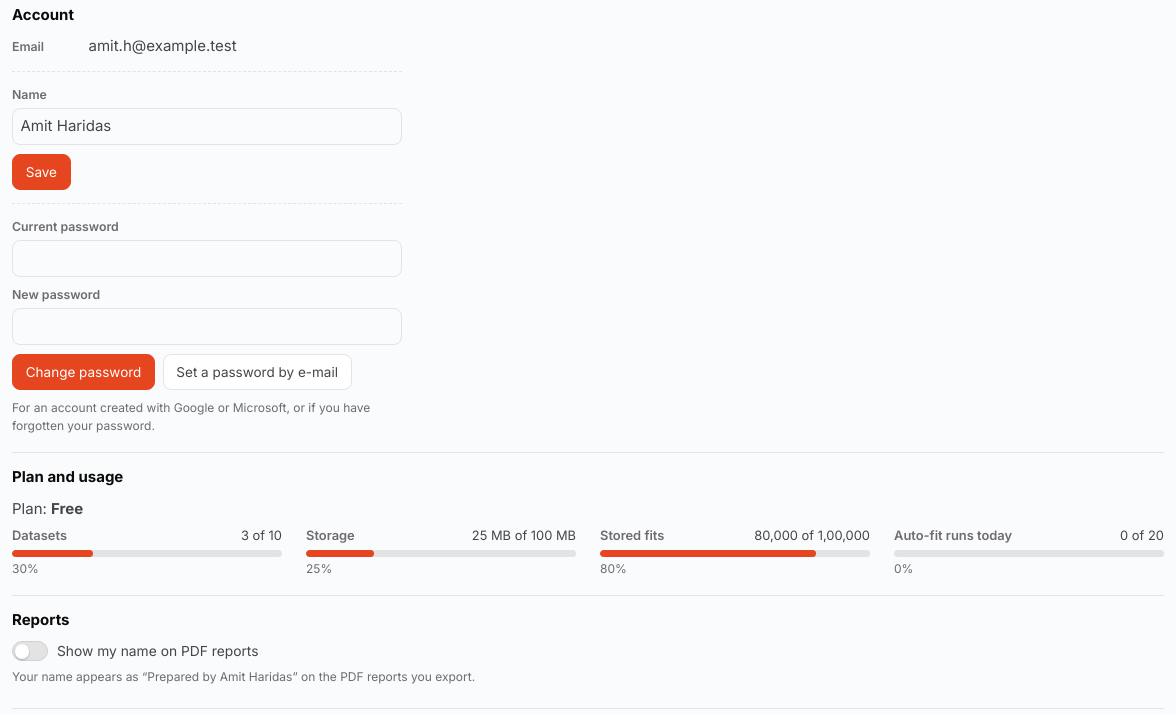
Test: ProfilePage — Account › changes the password and confirms that other devices were signed out
Check: the heading "Account" is shown, box [12,5,74,24]
Type "old-pass-123" into the password field labelled "Current password" at (207, 259), box [12,240,402,277]
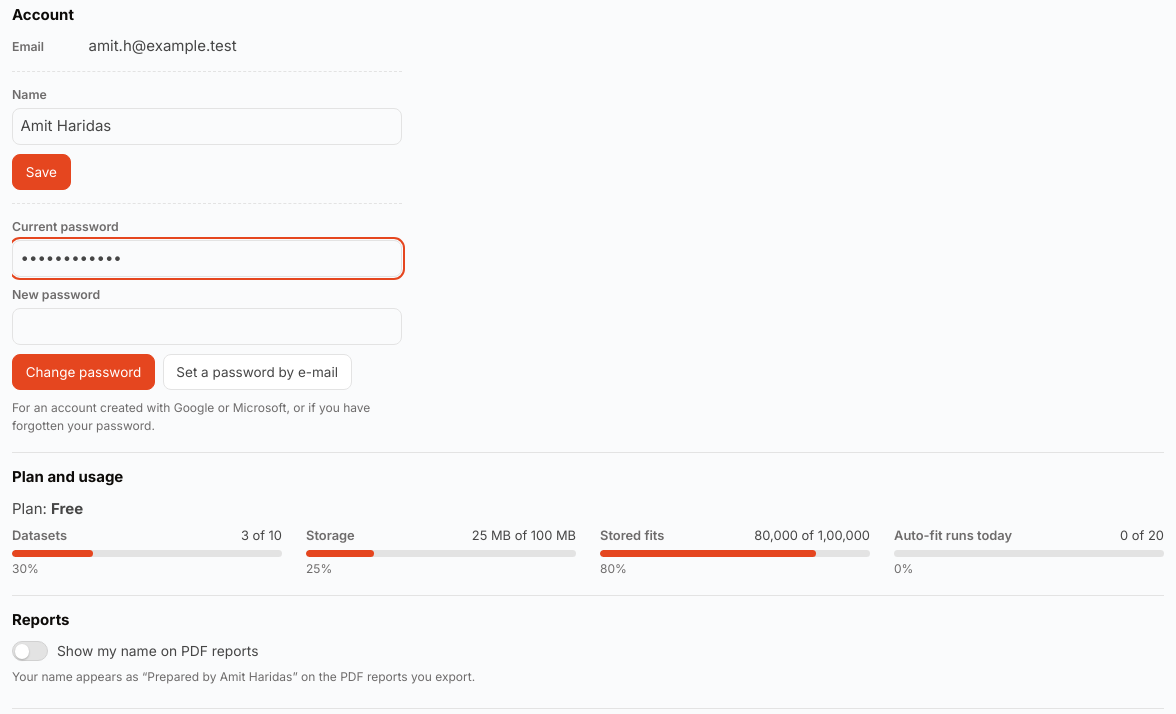
Type "new-pass-456" into the password field labelled "New password" at (207, 327), box [12,308,402,345]
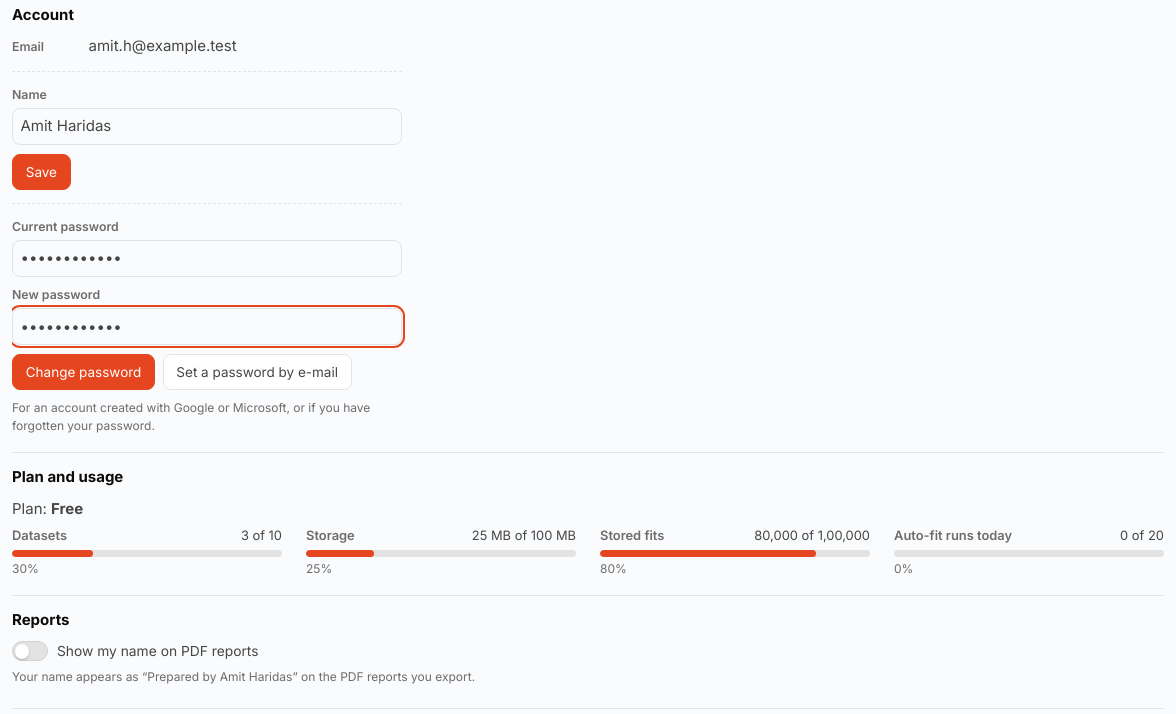
Click the button "Change password" at (84, 372), box [12,354,155,390]
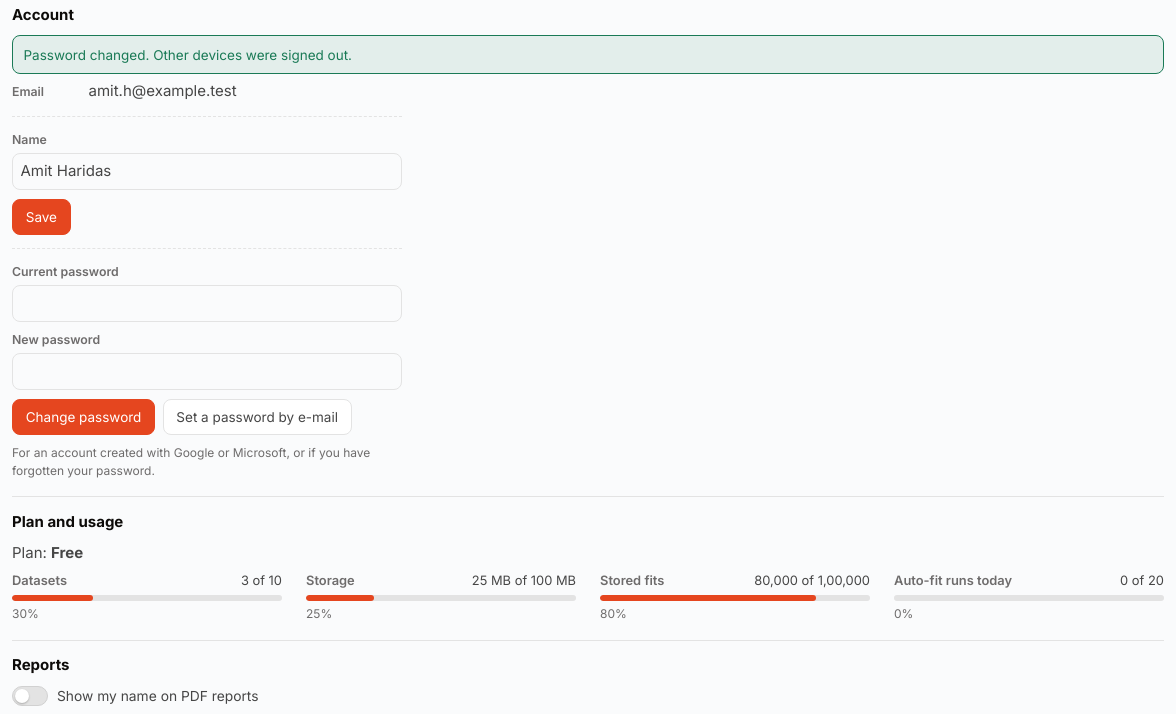
Check: the message reads "Password changed. Other devices were signed out.", box [24,46,352,62]
Check: the password field labelled "New password" is empty, box [12,353,402,390]
